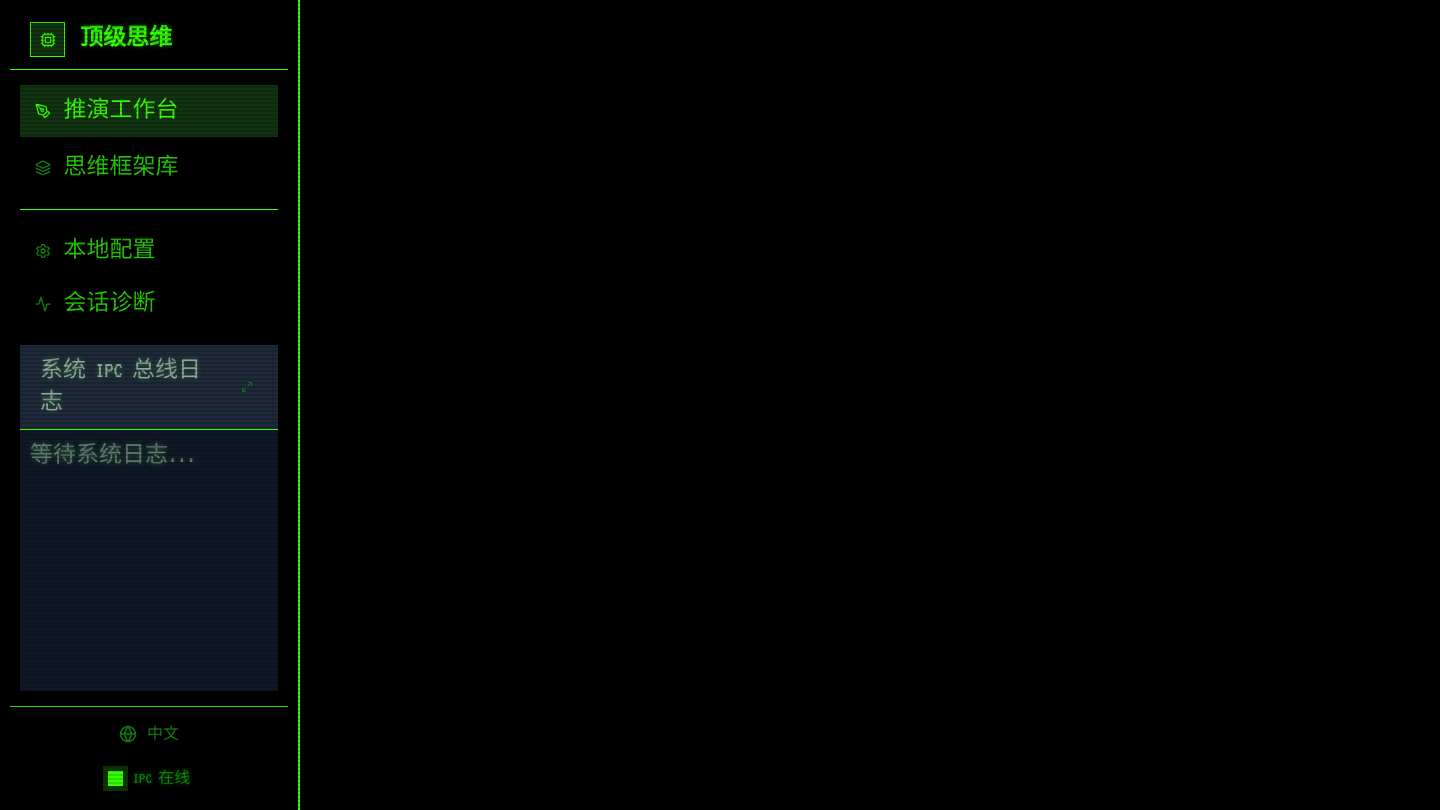
Test: Sidebar › 会话诊断使用弹窗而不是主区域展开文案
The image size is (1440, 810).
What coordinates should you click on to do the following:
click the button "会话诊断"
I would click on:
 (149, 304)
Its box is [20, 278, 278, 330].
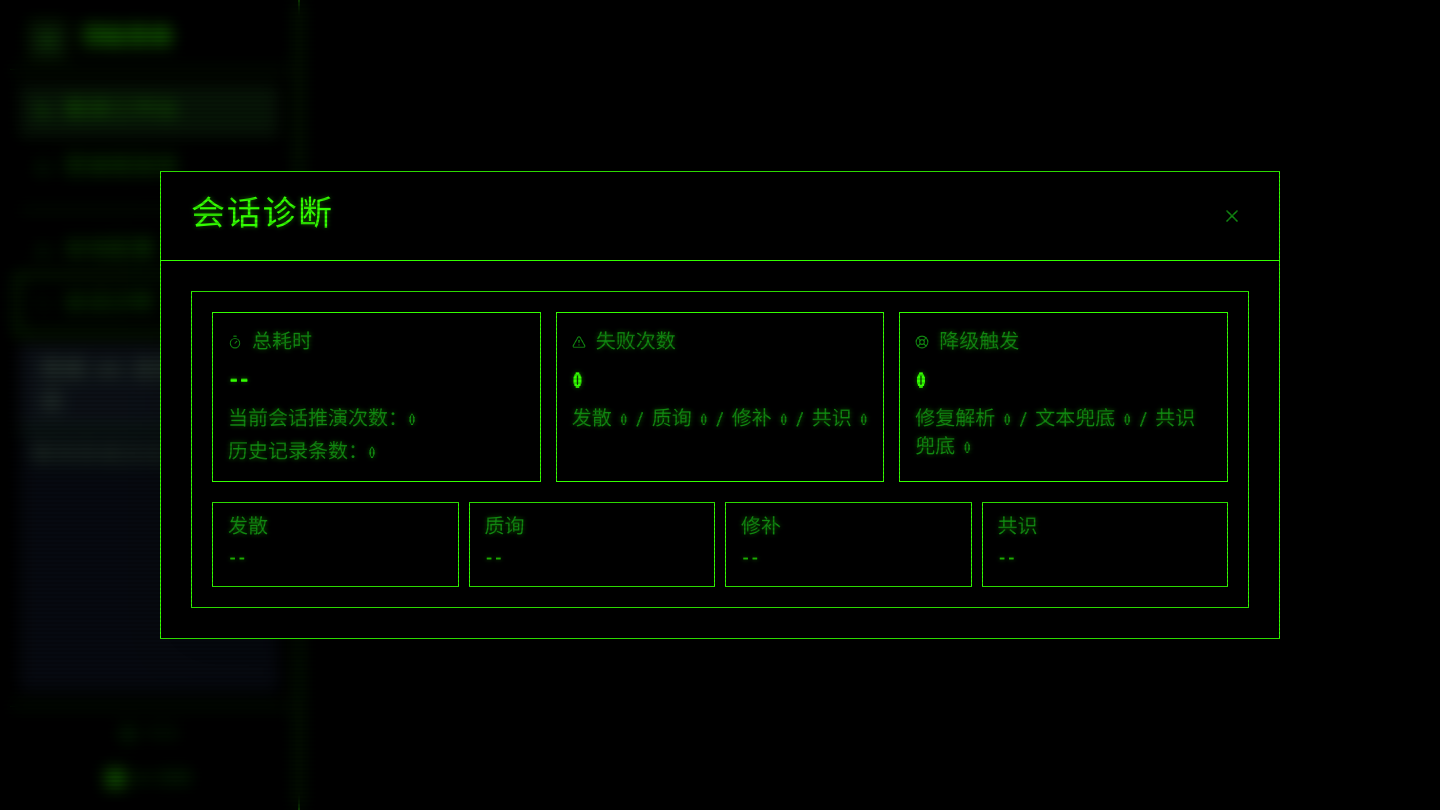
Check: the button named "关闭会话诊断弹窗" is shown, box [1214, 199, 1249, 234]
